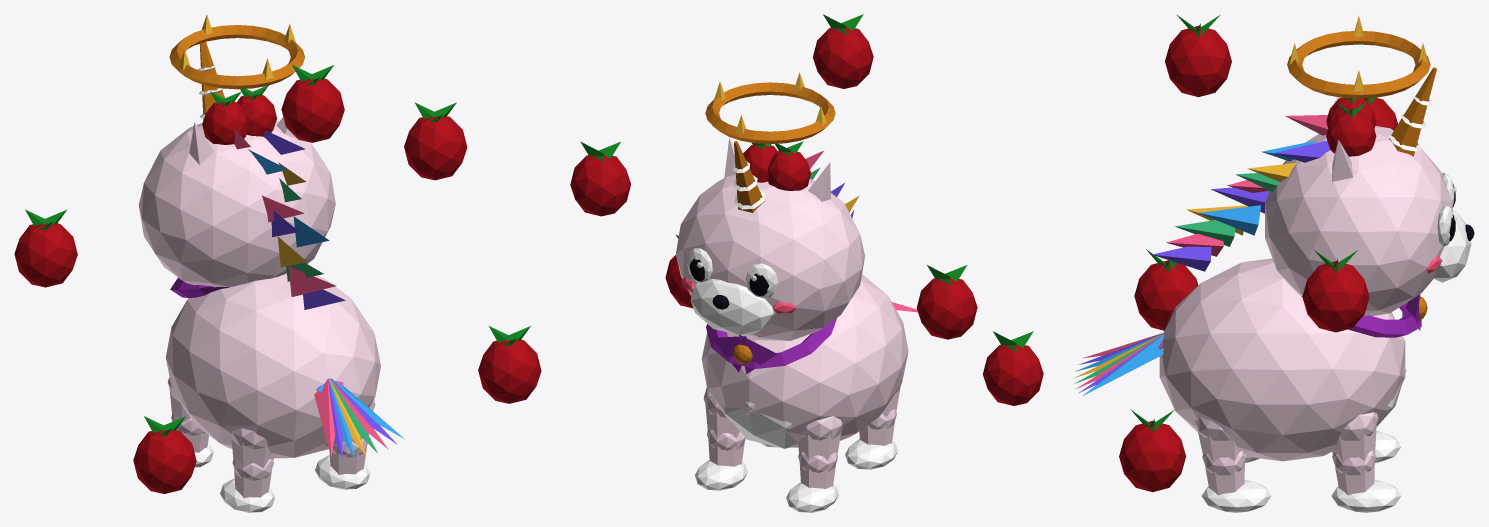
The model's file is donut_unicorn.obj.
3 renders of one model, left to right at view 1: azimuth 30°, elevation 25°; view 2: azimuth 150°, elevation 25°; view 3: azimuth 270°, elevation 25°, orthographic. The views are drawn at different scales.
Visible parts, largest first — view 1: Body_1_m1, Head_2_m3, Halo_16_m46, Float1_11_m36, Float2_12_m38, Float3_13_m40, Float5_15_m44, Float4_14_m42, Head_2_m32, Head_2_m22, Head_2_m23, Body_1_m27 (+11 smaller); view 2: Head_2_m3, Body_1_m1, Head_2_m4, Halo_16_m46, Float1_11_m36, Float2_12_m38, Float3_13_m40, Float4_14_m42, Body_1_m34, Head_2_m32, Body_1_m2, Leg1Up_3_m9 (+10 smaller); view 3: Body_1_m1, Head_2_m3, Halo_16_m46, Float2_12_m38, Float3_13_m40, Float5_15_m44, Float4_14_m42, Head_2_m4, Head_2_m32, Head_2_m23, Leg2Up_5_m12, Body_1_m34 (+16 smaller).
Part boxes in pixels (x1,y1,x2,y2): Body_1_m1: (165, 273, 380, 458); Head_2_m3: (138, 117, 335, 287); Halo_16_m46: (169, 25, 304, 89); Float1_11_m36: (14, 223, 77, 287); Float2_12_m38: (404, 116, 467, 180); Float3_13_m40: (281, 78, 344, 142); Float5_15_m44: (478, 339, 541, 403); Float4_14_m42: (133, 430, 196, 493); Head_2_m32: (202, 95, 276, 144); Head_2_m22: (234, 128, 335, 296); Head_2_m23: (263, 130, 345, 309); Body_1_m27: (314, 378, 388, 457); Head_2_m3: (676, 138, 864, 340); Body_1_m1: (701, 274, 908, 447); Head_2_m4: (687, 161, 778, 334); Halo_16_m46: (705, 82, 835, 144); Float1_11_m36: (916, 278, 977, 339); Float2_12_m38: (570, 155, 630, 216); Float3_13_m40: (813, 27, 873, 88); Float4_14_m42: (983, 344, 1043, 405); Body_1_m34: (706, 318, 836, 374); Head_2_m32: (743, 144, 810, 190); Body_1_m2: (722, 401, 797, 448); Leg1Up_3_m9: (798, 416, 842, 460); Body_1_m1: (1159, 258, 1405, 461); Head_2_m3: (1265, 97, 1452, 316); Halo_16_m46: (1287, 31, 1430, 98); Float2_12_m38: (1302, 261, 1369, 332); Float3_13_m40: (1165, 26, 1231, 97); Float5_15_m44: (1119, 421, 1185, 492); Float4_14_m42: (1134, 260, 1198, 330); Head_2_m4: (1388, 95, 1471, 282); Head_2_m32: (1326, 98, 1376, 156); Head_2_m23: (1152, 140, 1330, 271); Leg2Up_5_m12: (1331, 412, 1378, 462); Body_1_m34: (1301, 294, 1421, 337).
Bounding box in the file's own units: 3.44 × 3.36 × 2.63.
